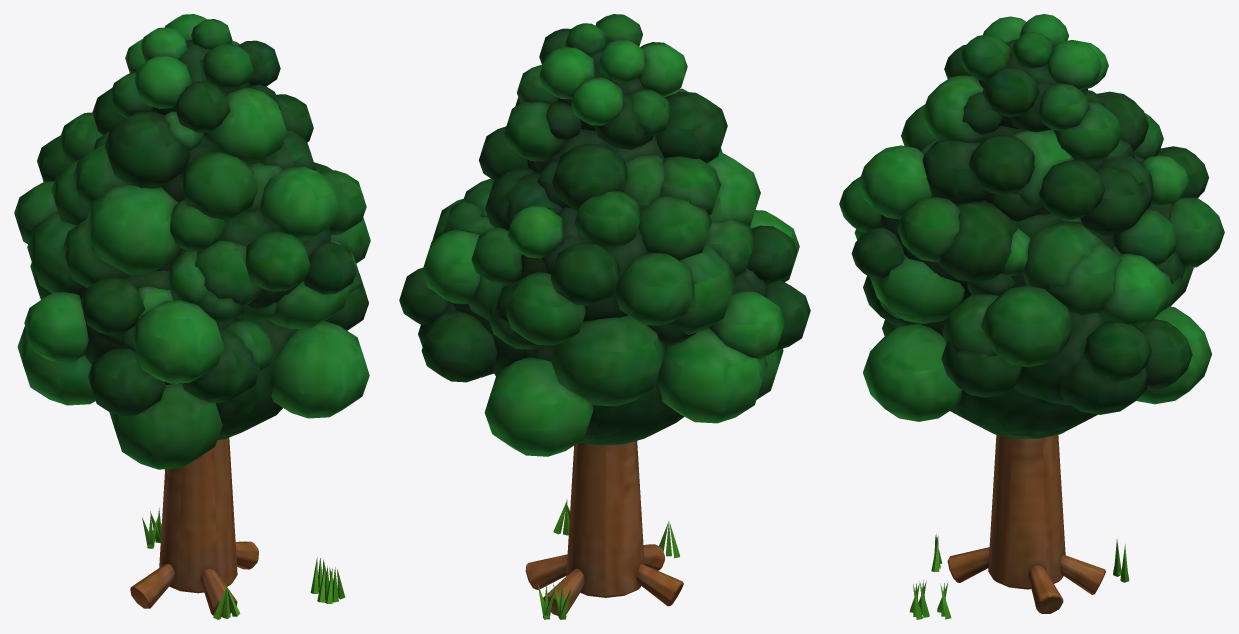
The model's file is mangosteen_tree.glb.
3 views of the same model, side by side, from view 1: azimuth 30°, elevation 25°; view 2: azimuth 150°, elevation 25°; view 3: azimuth 270°, elevation 25° (orthographic).
Parts seen in each view (by area): view 1: crown, mangosteen_tree; view 2: crown, mangosteen_tree; view 3: crown, mangosteen_tree.
Boxes of the visible parts, x1,y1,x2,y2 form: crown: (14,14,370,469); mangosteen_tree: (130,437,345,619); crown: (399,14,810,456); mangosteen_tree: (525,441,683,619); crown: (839,14,1224,438); mangosteen_tree: (909,435,1129,619).
Size of the model in its own units: 0.9362 by 1.48 by 0.9245.
Materials: 1 (1 with a texture image).
